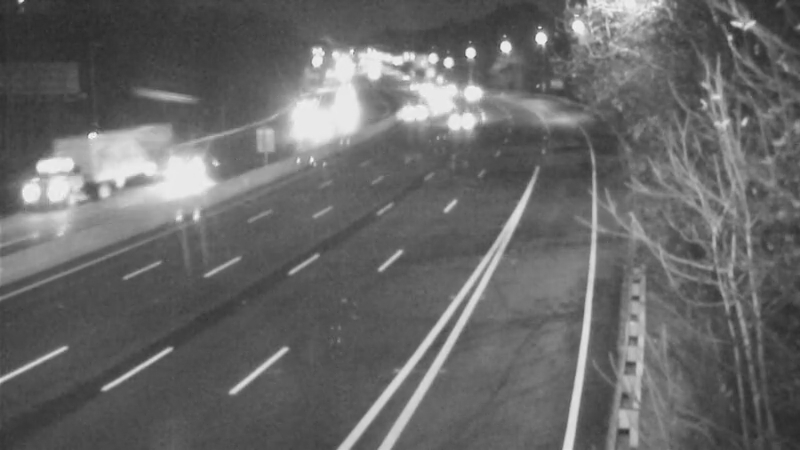vehicle: (18, 150, 98, 230), (145, 135, 225, 215), (448, 65, 498, 115), (411, 81, 461, 131), (374, 94, 424, 144), (440, 95, 490, 145), (283, 104, 333, 154)
